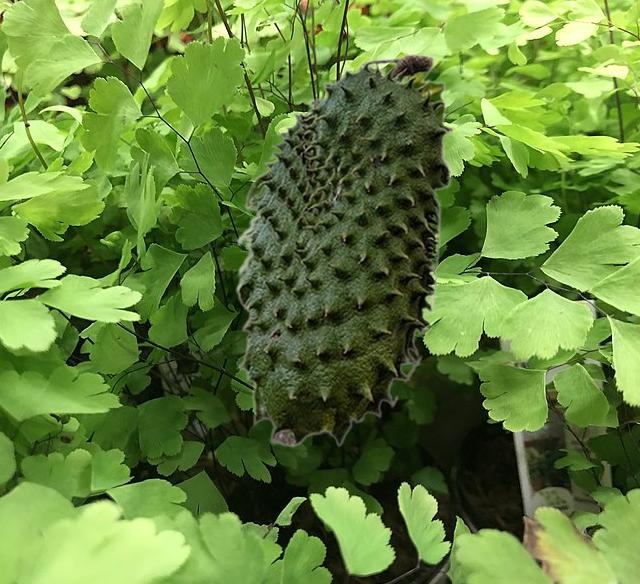guyabano: (234, 52, 453, 447)
